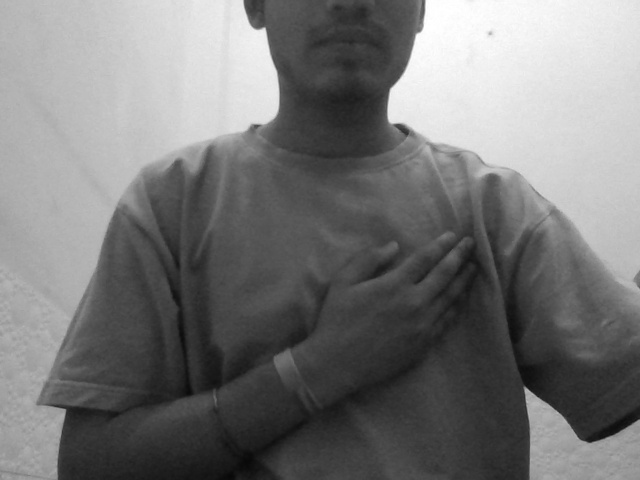Sorry: (291, 214, 510, 406)
